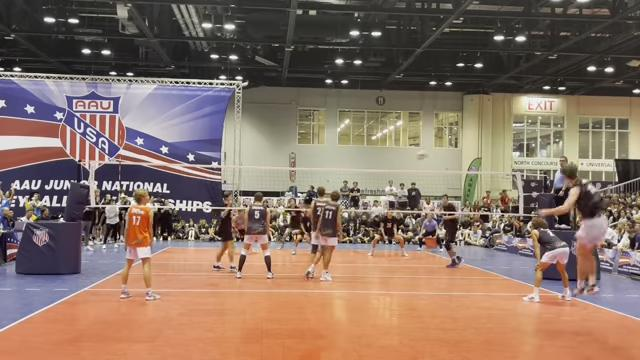Player: (120, 189, 160, 300), (523, 217, 570, 301), (236, 192, 273, 278), (316, 191, 341, 280), (305, 187, 327, 278), (213, 192, 237, 272), (368, 212, 407, 256), (442, 194, 463, 267), (279, 199, 302, 254), (232, 209, 245, 240)
Serve: (526, 160, 612, 299)
